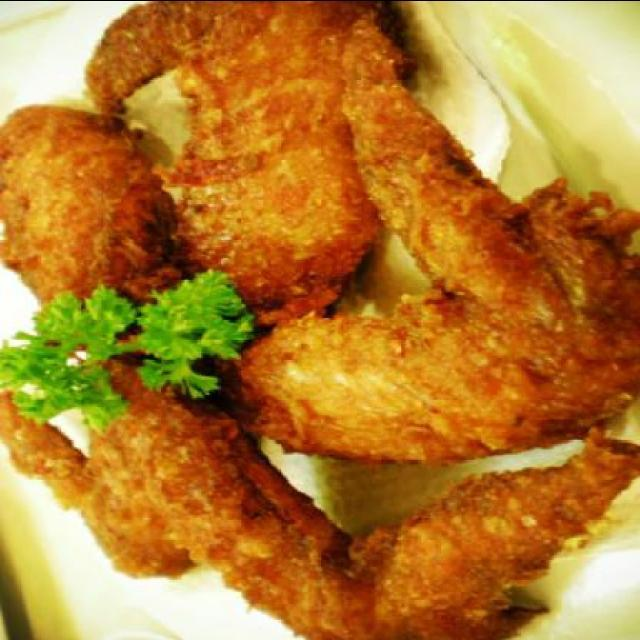Deep fried chicken wing: (13, 7, 625, 636)
